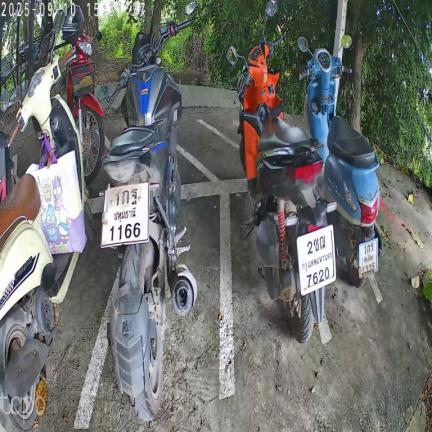0: (323, 266, 331, 280)
1: (107, 225, 115, 242), (114, 190, 120, 207), (117, 224, 123, 240)
2: (304, 238, 315, 256), (318, 268, 325, 282)
6: (133, 222, 142, 238), (124, 223, 133, 238), (312, 270, 319, 285)
7: (304, 272, 313, 288)
A01: (121, 189, 129, 205)
A02: (312, 237, 321, 254)
A12: (318, 234, 327, 251)
A16: (130, 188, 138, 205)
BKK: (301, 250, 333, 275)
PTN: (112, 206, 139, 224)
